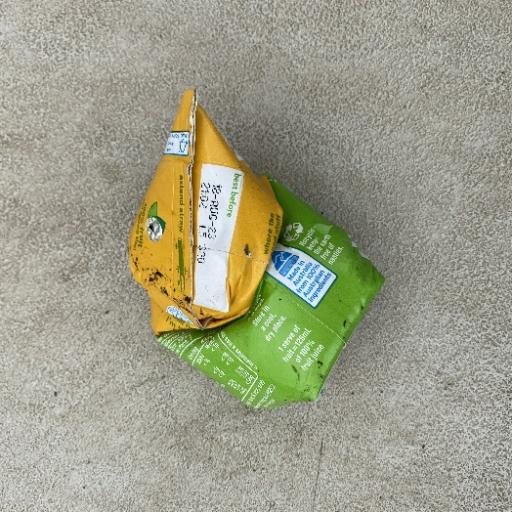Cardboard: (127, 88, 387, 411), (126, 87, 284, 337)
